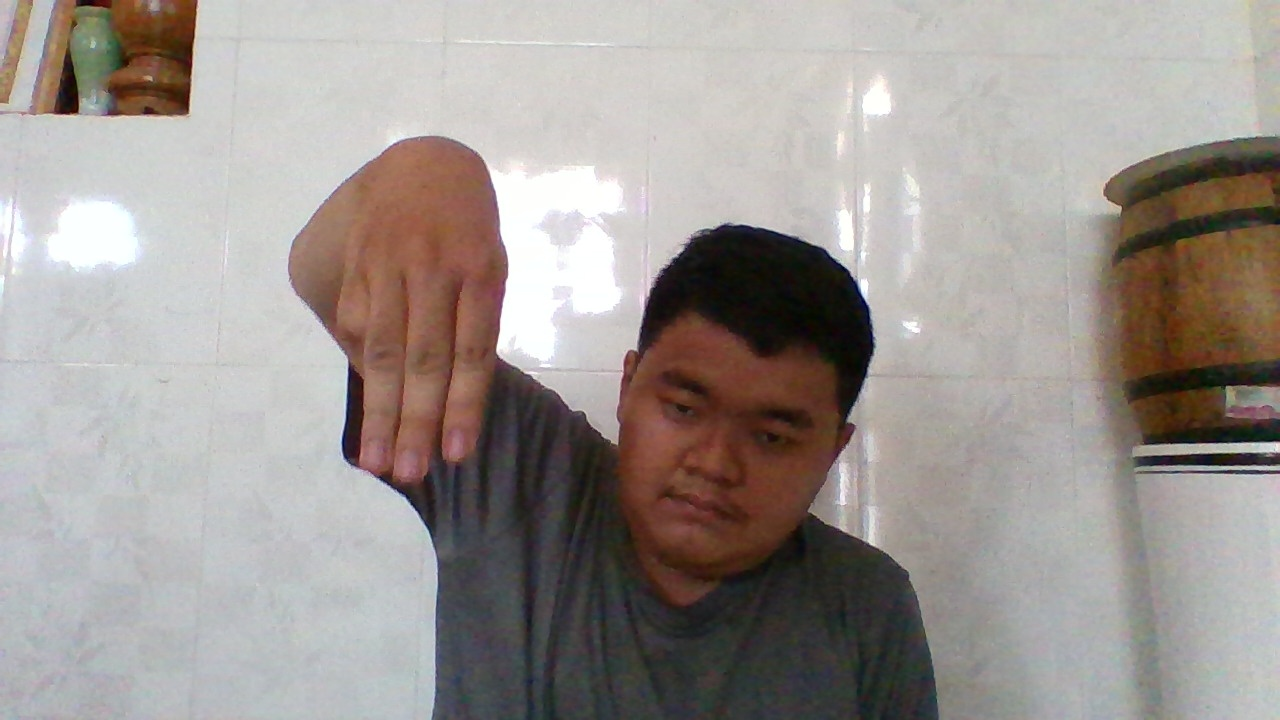M: (326, 144, 503, 498)
